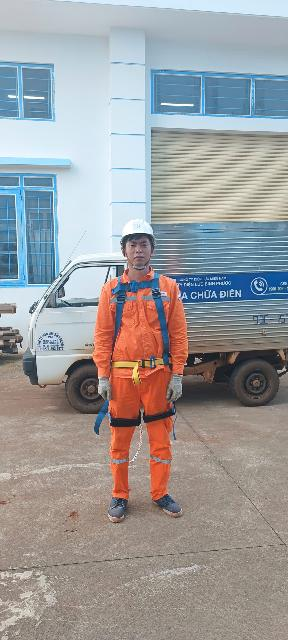gloves: (92, 371, 116, 409), (162, 378, 194, 403)
harness: (107, 276, 178, 375)
helmet: (110, 213, 170, 253)
shoes: (144, 483, 200, 522), (106, 485, 127, 524)
